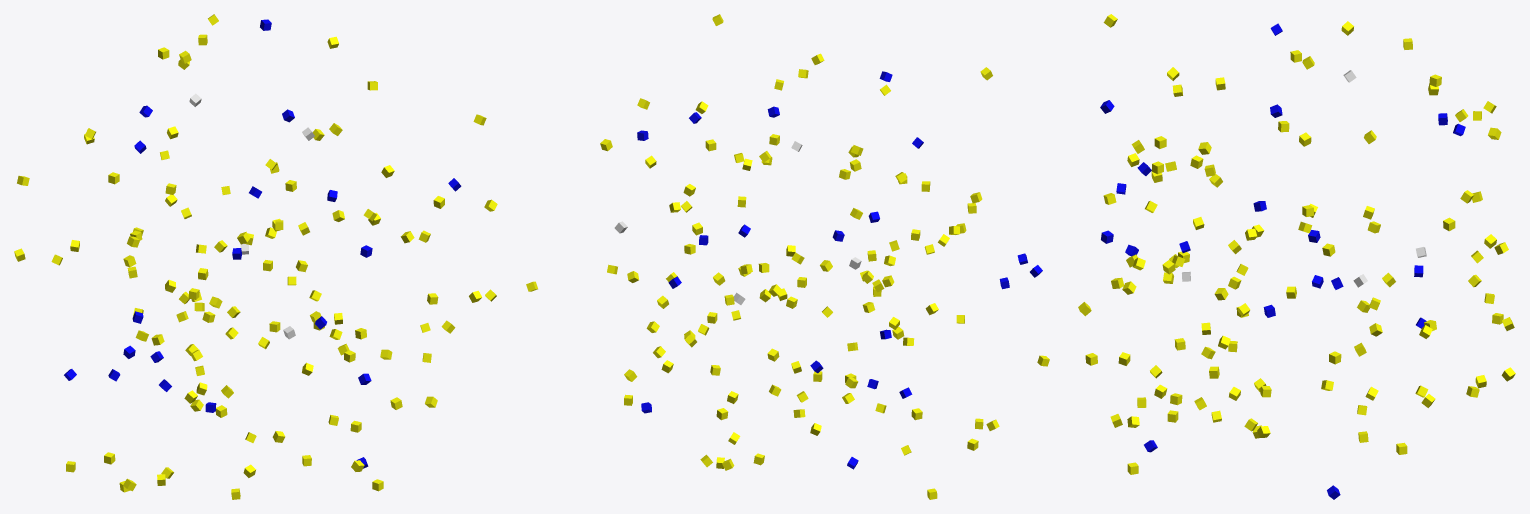
File: cubes_scene.dae
3 views of the same model, side by side, from view 1: azimuth 30°, elevation 25°; view 2: azimuth 150°, elevation 25°; view 3: azimuth 270°, elevation 25° (orthographic). The views are drawn at different scales.
Size of the model in its own units: 102 by 102 by 99.45.
